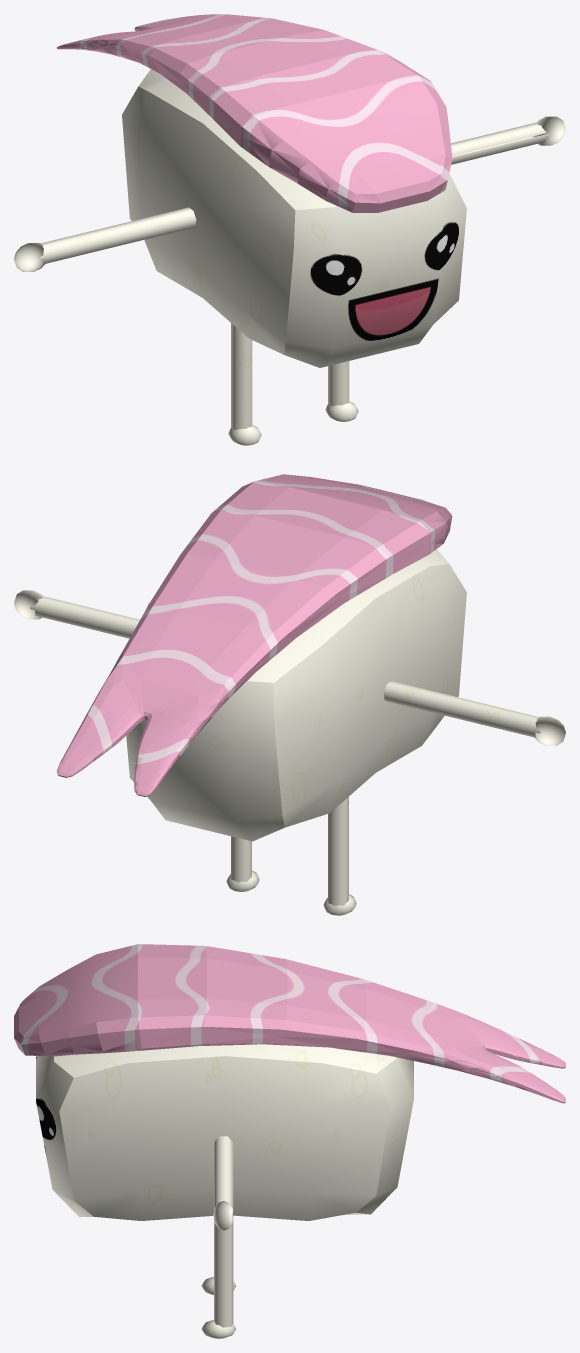
The model's file is Mesh_Sushi_01.FBX.
3 views of the same model, one above another, from view 1: azimuth 30°, elevation 25°; view 2: azimuth 150°, elevation 25°; view 3: azimuth 270°, elevation 25° (orthographic). The views are drawn at different scales.
Parts seen in each view (by area): view 1: BodyRiz; view 2: BodyRiz; view 3: BodyRiz.
Boxes of the visible parts, x1=… form: BodyRiz: x1=14, y1=14, x2=565, y2=445; BodyRiz: x1=14, y1=474, x2=565, y2=915; BodyRiz: x1=14, y1=944, x2=565, y2=1338.
Size of the model in its own units: 50.38 by 32.25 by 48.08.
Materials: 1 (1 with a texture image).
